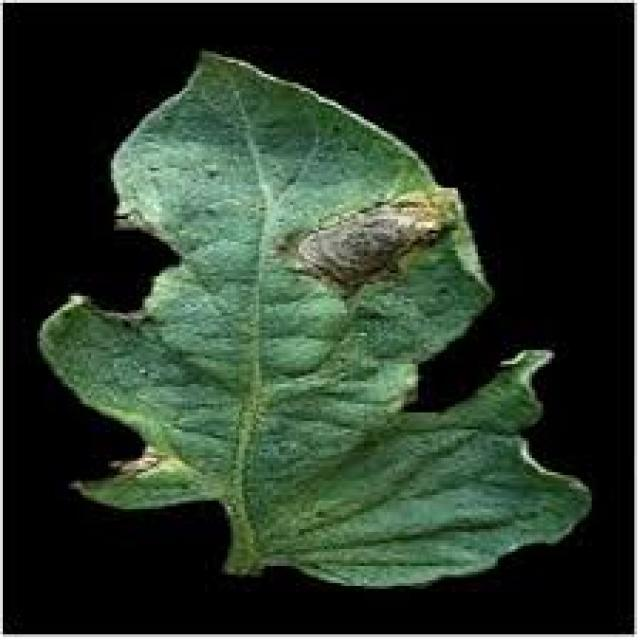leaf: (37, 47, 592, 588)
